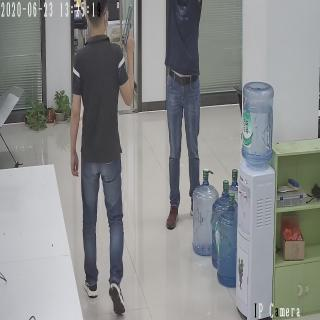gun: (120, 2, 136, 48)
